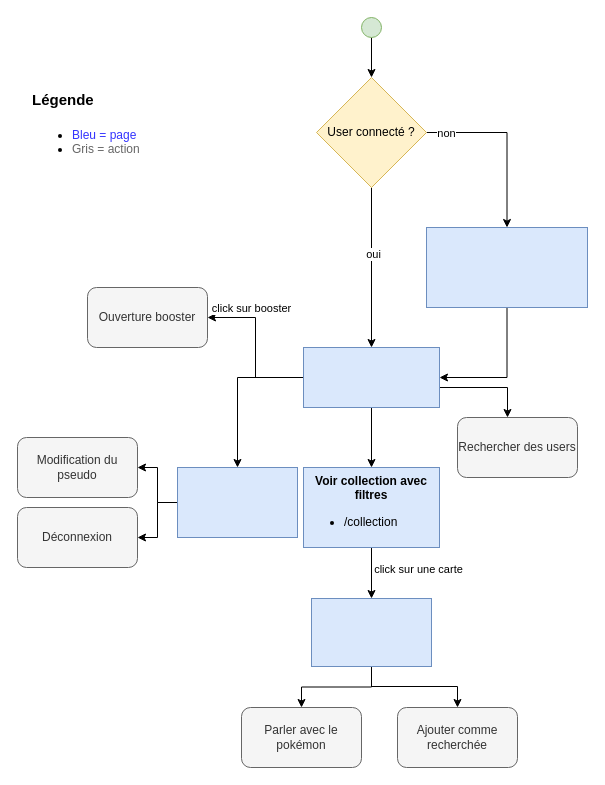
This 605x785 diagram has some shape labels left out. Here are the shapes that lost their labels. From the top down, the centre of each, then its label:
At point 507,267: "Connection ou Inscription /auth/login /auth/regsiter".
At point 371,377: "Accueil choix booster /".
At point 237,502: "Paramètres compte /account".
At point 371,632: "Voir stats carte /card/:cardId".
